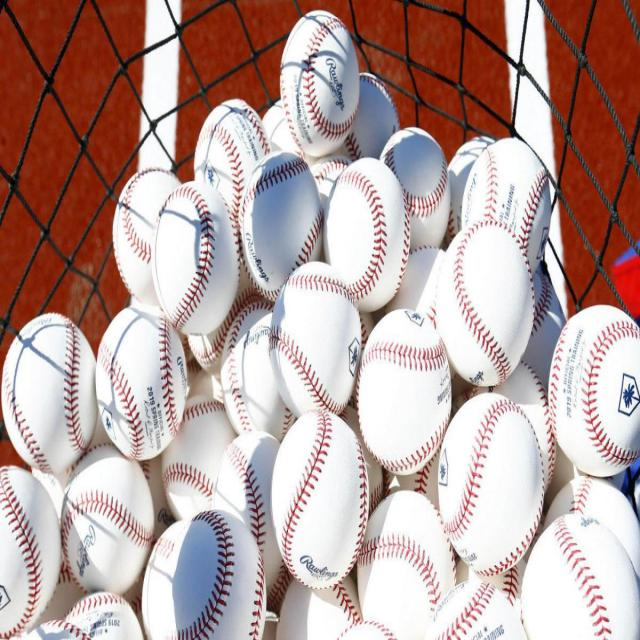baseball: (440, 394, 545, 570), (270, 414, 370, 584), (358, 310, 452, 470), (57, 441, 156, 592), (441, 224, 534, 377), (549, 303, 628, 481), (96, 306, 186, 462), (356, 490, 454, 632), (7, 314, 98, 466), (273, 261, 361, 415), (153, 182, 240, 336), (164, 509, 266, 638), (523, 511, 624, 636), (332, 159, 411, 302), (279, 9, 358, 148), (242, 152, 322, 287), (462, 138, 551, 250), (2, 475, 60, 631), (111, 167, 163, 302), (381, 132, 445, 239), (225, 304, 278, 425), (196, 100, 267, 190), (164, 402, 223, 503)
